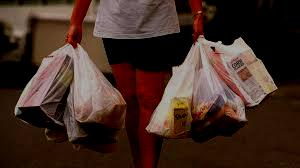Plastic: (64, 42, 124, 153), (182, 41, 246, 143), (207, 32, 283, 115), (147, 31, 204, 141), (19, 45, 76, 148)
